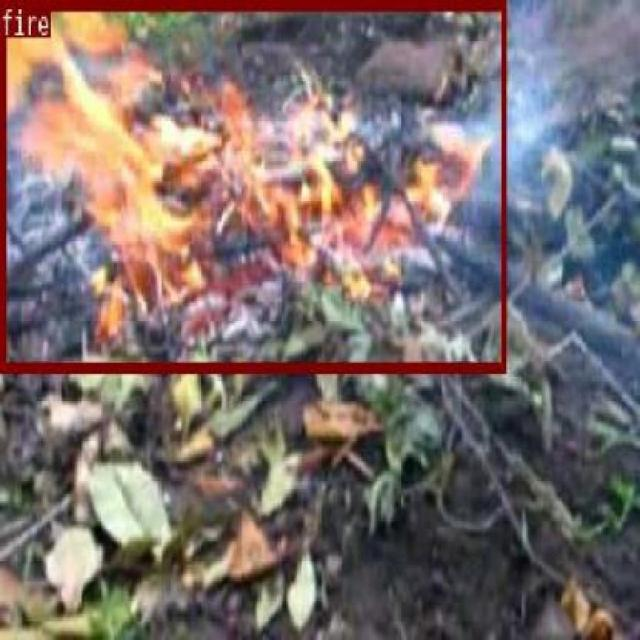Fire: (0, 0, 505, 369)
